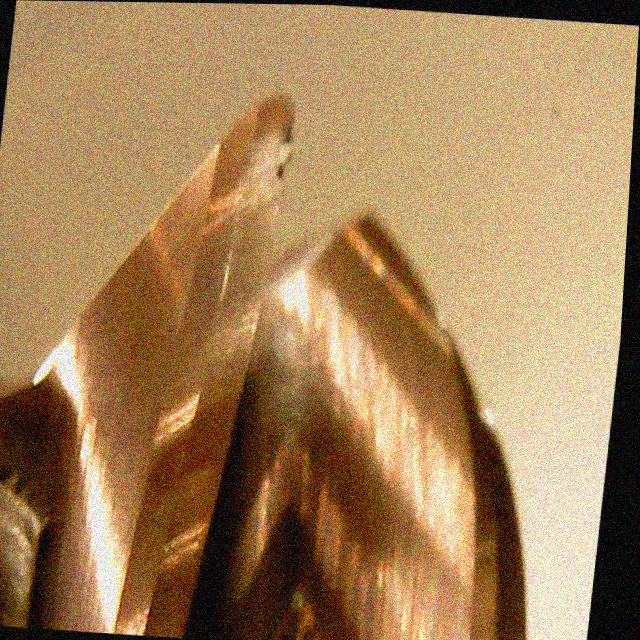Tool-wear-class-1: (164, 82, 319, 346)
